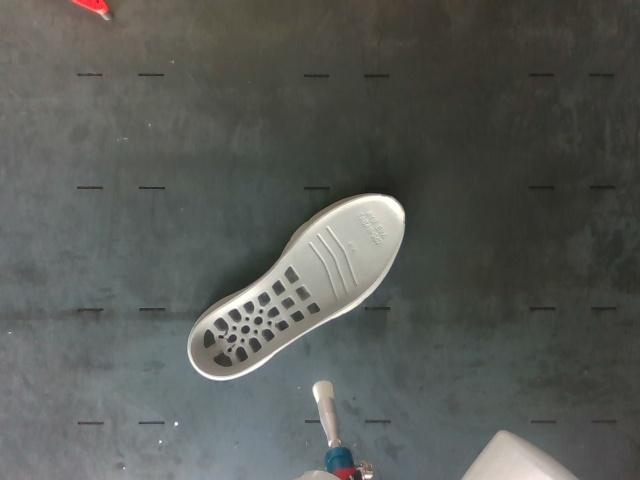shoes: (190, 196, 404, 376)
